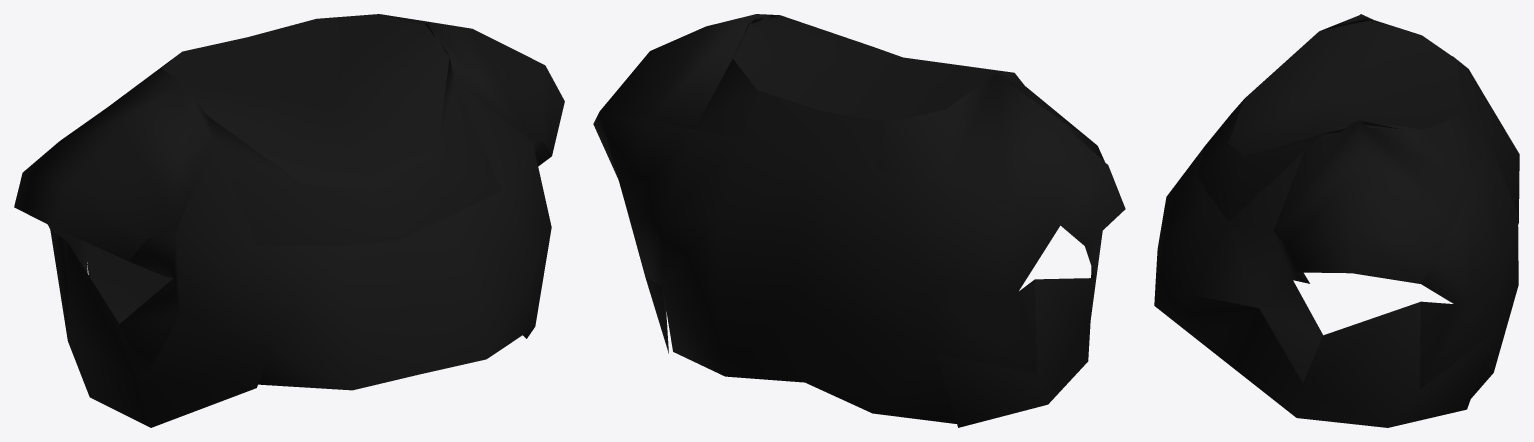
File: spine2.glb
The picture shows the model from 3 angles, left to right: view 1: azimuth 30°, elevation 25°; view 2: azimuth 150°, elevation 25°; view 3: azimuth 270°, elevation 25°; orthographic projection. The views are drawn at different scales.
Parts seen in each view (by area): view 1: sweater-black_SPINE2; view 2: sweater-black_SPINE2; view 3: sweater-black_SPINE2.
Boxes of the visible parts, box(x1,y1,x2,y2) form: sweater-black_SPINE2: box(14, 14, 564, 427); sweater-black_SPINE2: box(593, 14, 1125, 427); sweater-black_SPINE2: box(1154, 14, 1519, 427).
Bounding box in the file's own units: 0.4747 × 0.279 × 0.3328.
Materials: 1 (1 with a texture image).
